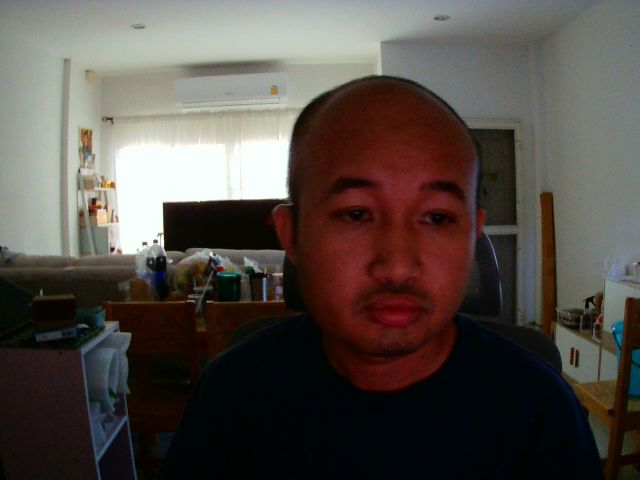face: (288, 73, 480, 359)
